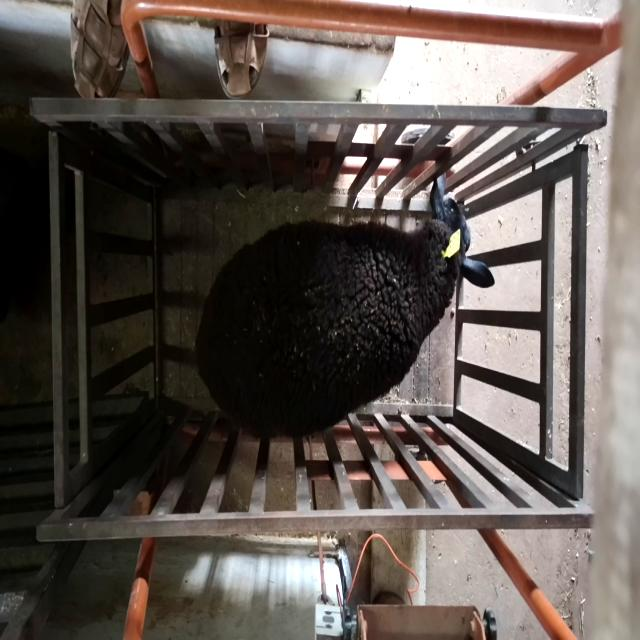sheep: (194, 172, 495, 441)
